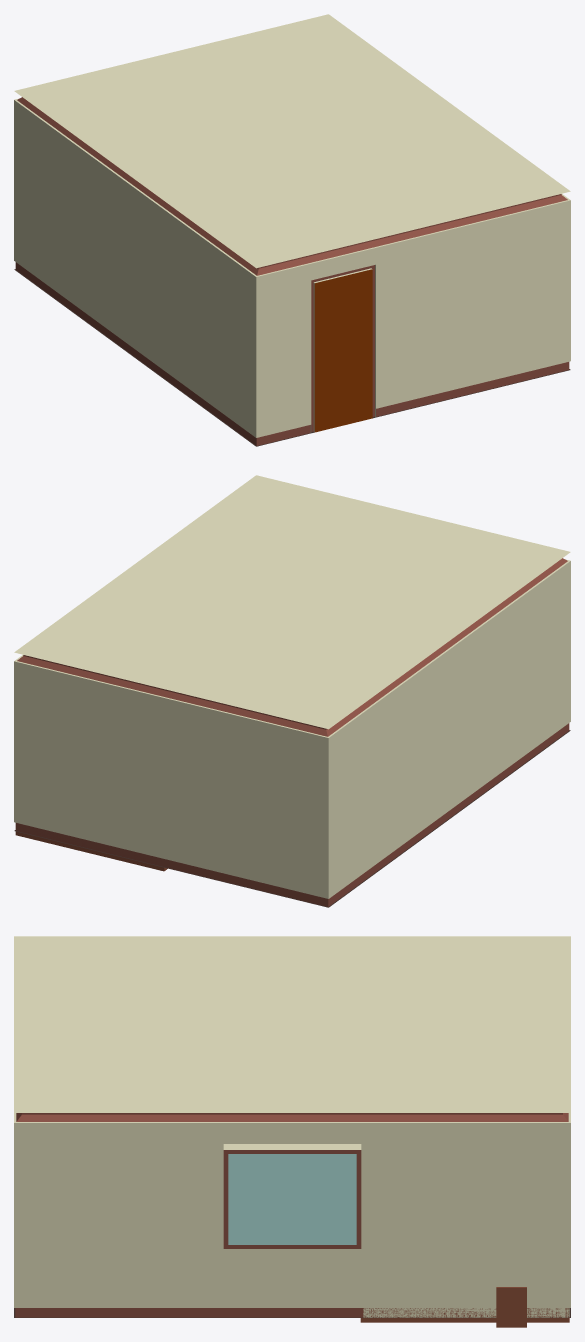
Rendered from Living Corridors.glb.
The picture shows the model from 3 angles, top to bottom: view 1: azimuth 30°, elevation 25°; view 2: azimuth 150°, elevation 25°; view 3: azimuth 270°, elevation 25°; orthographic projection. The views are drawn at different scales.
Parts seen in each view (by area): view 1: Cube; view 2: Cube, Bed; view 3: Cube, Bed.
Part boxes in pixels (x1=…): Cube: x1=14, y1=14, x2=570, y2=446; Cube: x1=14, y1=475, x2=570, y2=907; Bed: x1=15, y1=825, x2=167, y2=871; Cube: x1=14, y1=936, x2=570, y2=1317; Bed: x1=360, y1=1287, x2=569, y2=1327.
Bounding box in the file's own units: 4.65 × 2.54 × 6.
